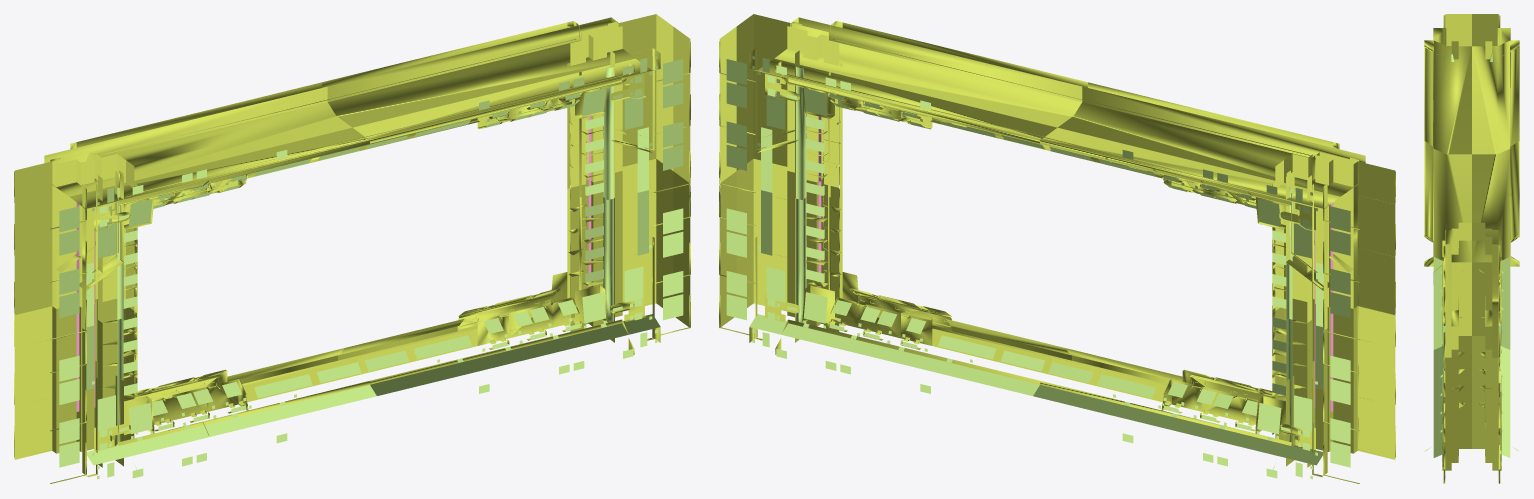
Rendered from grimhex_building_3_floor_landingpad_corner_72x32_a_lod1.glb.
3 renders of one model, left to right at view 1: azimuth 30°, elevation 25°; view 2: azimuth 150°, elevation 25°; view 3: azimuth 270°, elevation 25°, orthographic. The views are drawn at different scales.
Size of the model in its own units: 102 by 44.21 by 16.86.
